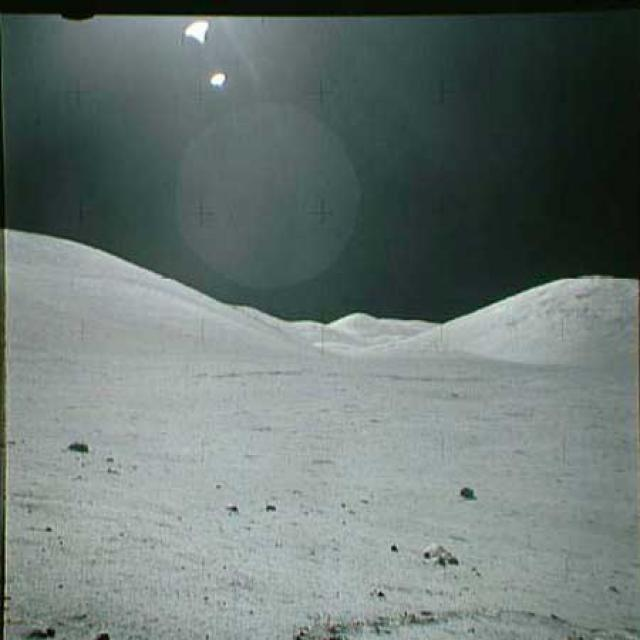rock: (413, 536, 459, 572), (68, 436, 94, 458), (460, 483, 476, 501)
